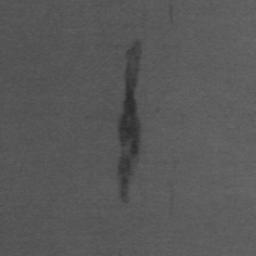Iron scale compression: (117, 41, 141, 202)
